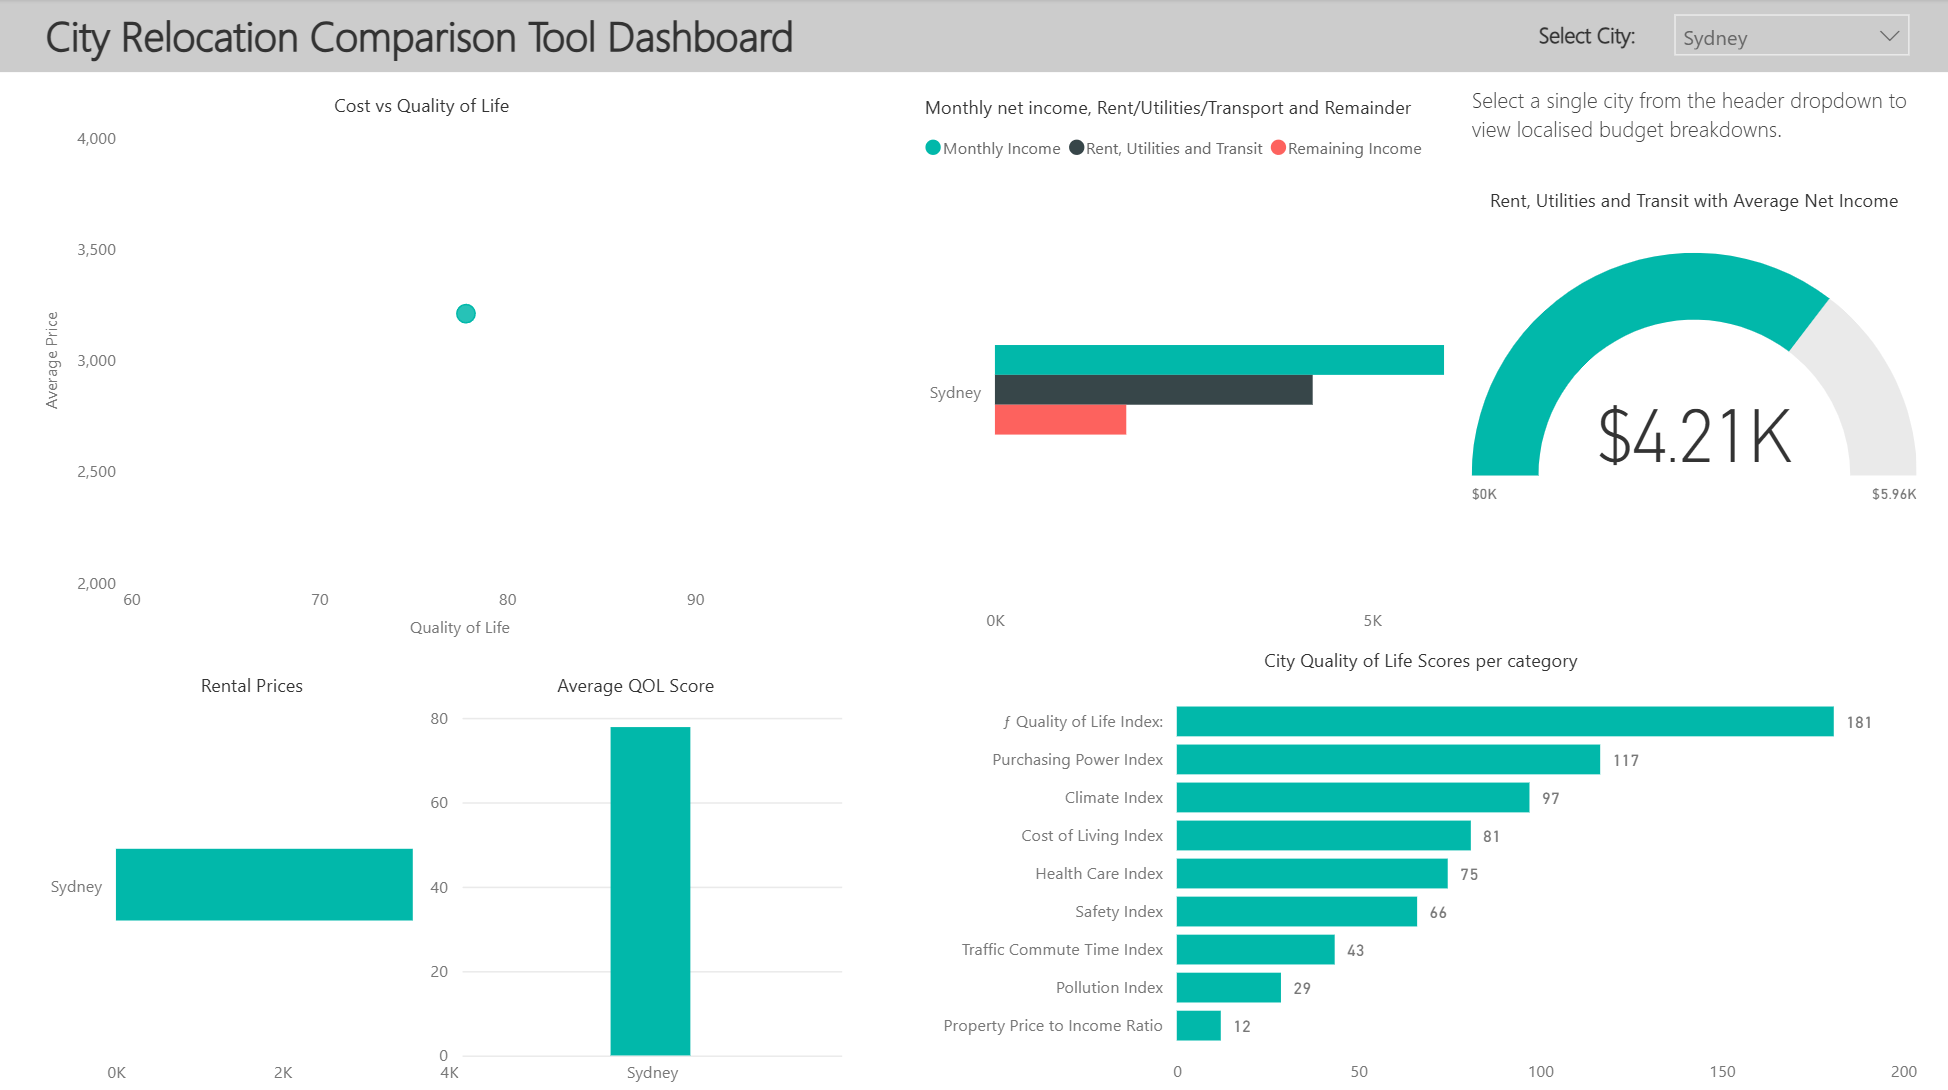

What the dashboard file says about the page in this screenshot:
{"tool":"powerbi","page":{"name":"Page 1","canvas":[1280,720],"ordinal":0},"visuals":[{"type":"columnChart","title":"Average QOL Score","fields":{"Category":["cities.city_name"],"Y":["Avg(psych_utility.qol_item_score)"]},"box":[277.5,440.2,279.9,279.9],"z":0},{"type":"barChart","title":"Rental Prices","fields":{"Category":["cities.city_name"],"Y":["cost_metrics.Cost_Of_Rent"]},"box":[26.3,440.2,279.9,279.9],"z":1},{"type":"scatterChart","title":"Cost vs Quality of Life","fields":{"X":["psych_utility.QOL Score"],"Category":["cities.city_name"],"Y":["cost_metrics.AVG_Price"]},"box":[26.3,60.6,502.4,362.1],"z":2},{"type":"gauge","title":"Rent, Utilities and Transit with Average Net Income","fields":{"MaxValue":["cost_metrics.Monthly_Income"],"Y":["cost_metrics.Rent_Utilities_Transit"]},"box":[959.4,122.8,301.5,236.9],"z":4},{"type":"clusteredBarChart","title":"Monthly net income, Rent/Utilities/Transport and Remainder","fields":{"Category":["cities.city_name"],"Y":["cost_metrics.Monthly_Income","cost_metrics.Rent_Utilities_Transit","cost_metrics.Monthly_Remainder"]},"box":[601.3,62.2,358.1,362.1],"z":5},{"type":"shape","box":[0,0,1280,47.9],"z":6},{"type":"textbox","box":[26.3,0,502.4,52.6],"z":8},{"type":"slicer","fields":{"Values":["cities.city_name"]},"box":[1087,0,173.9,47.9],"z":9},{"type":"textbox","box":[959.4,51,301.5,55.8],"z":10},{"type":"barChart","title":"City Quality of Life Scores per category","fields":{"Category":["psych_utility.qol_item_name"],"Y":["psych_utility.QOL_Score"]},"box":[601.3,424.3,659.5,295.9],"z":11},{"type":"textbox","box":[1003.3,8.8,83.7,30.3],"z":12}]}

Visuals, with their boxes in screenshot pixels (x1, y1, x2, y2), scaled from the page's 1280x720 canvas onto the 1948x1090 screenshot:
"Average QOL Score" columnChart: x1=422, y1=666, x2=848, y2=1089
"Rental Prices" barChart: x1=40, y1=666, x2=466, y2=1089
"Cost vs Quality of Life" scatterChart: x1=40, y1=92, x2=805, y2=640
"Rent, Utilities and Transit with Average Net Income" gauge: x1=1460, y1=186, x2=1919, y2=545
"Monthly net income, Rent/Utilities/Transport and Remainder" clusteredBarChart: x1=915, y1=94, x2=1460, y2=642
shape: x1=0, y1=0, x2=1947, y2=73
textbox: x1=40, y1=0, x2=805, y2=80
slicer - cities.city_name: x1=1654, y1=0, x2=1919, y2=73
textbox: x1=1460, y1=77, x2=1919, y2=162
"City Quality of Life Scores per category" barChart: x1=915, y1=642, x2=1919, y2=1089
textbox: x1=1527, y1=13, x2=1654, y2=59
